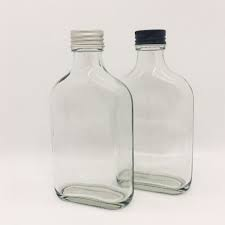glass_bottle: (43, 22, 205, 214)
